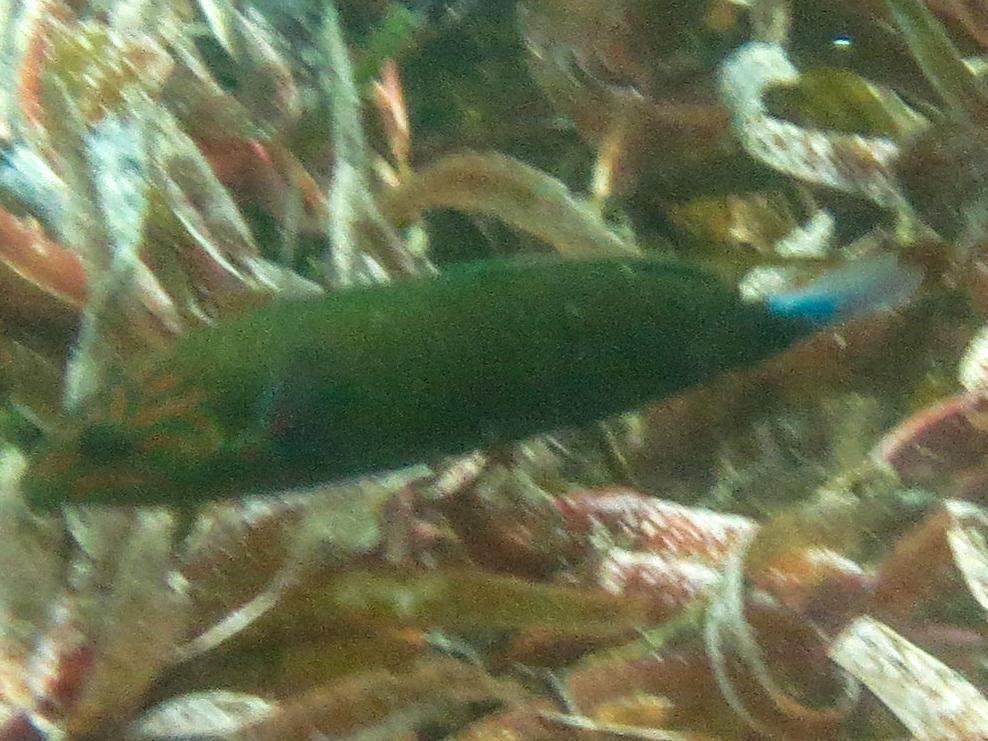Fish: (17, 160, 936, 539)
